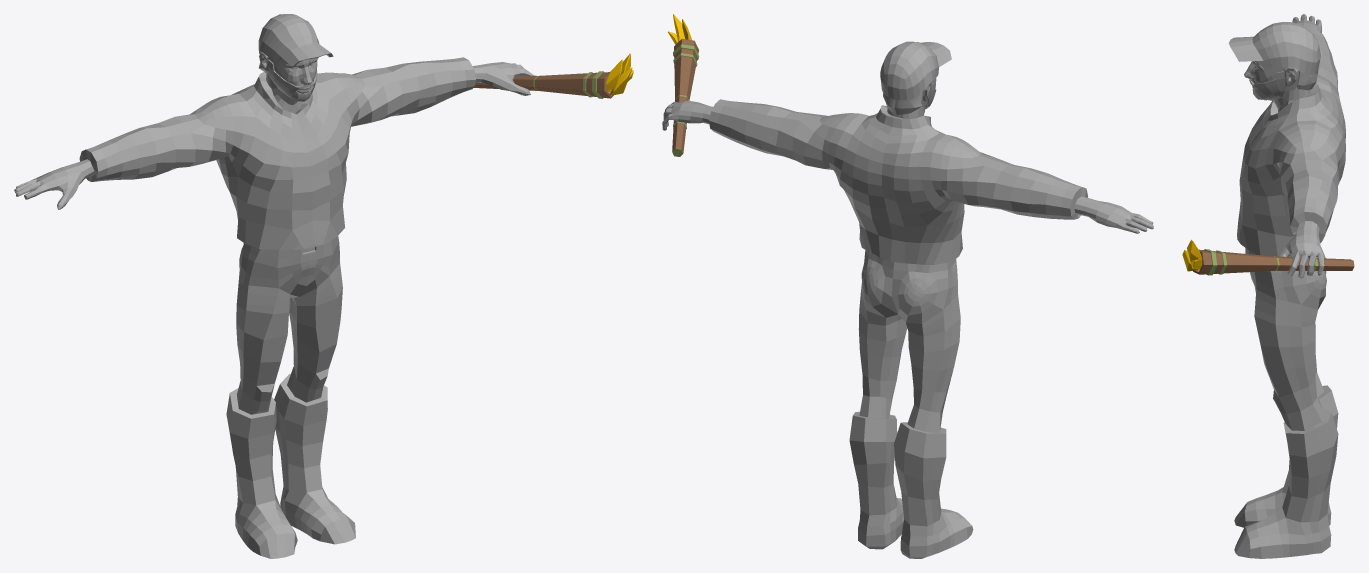
The model's file is Male_LP_with_fire.fbx.
3 views of the same model, side by side, from view 1: azimuth 30°, elevation 25°; view 2: azimuth 150°, elevation 25°; view 3: azimuth 270°, elevation 25° (orthographic). The views are drawn at different scales.
Visible parts, largest first — view 1: Man_LP1; view 2: Man_LP1; view 3: Man_LP1.
Part boxes in pixels (x1,y1,x2,y2): Man_LP1: (14,14,633,558); Man_LP1: (662,14,1153,558); Man_LP1: (1182,14,1354,558).
Bounding box in the file's own units: 40.36 × 35.43 × 10.75.
